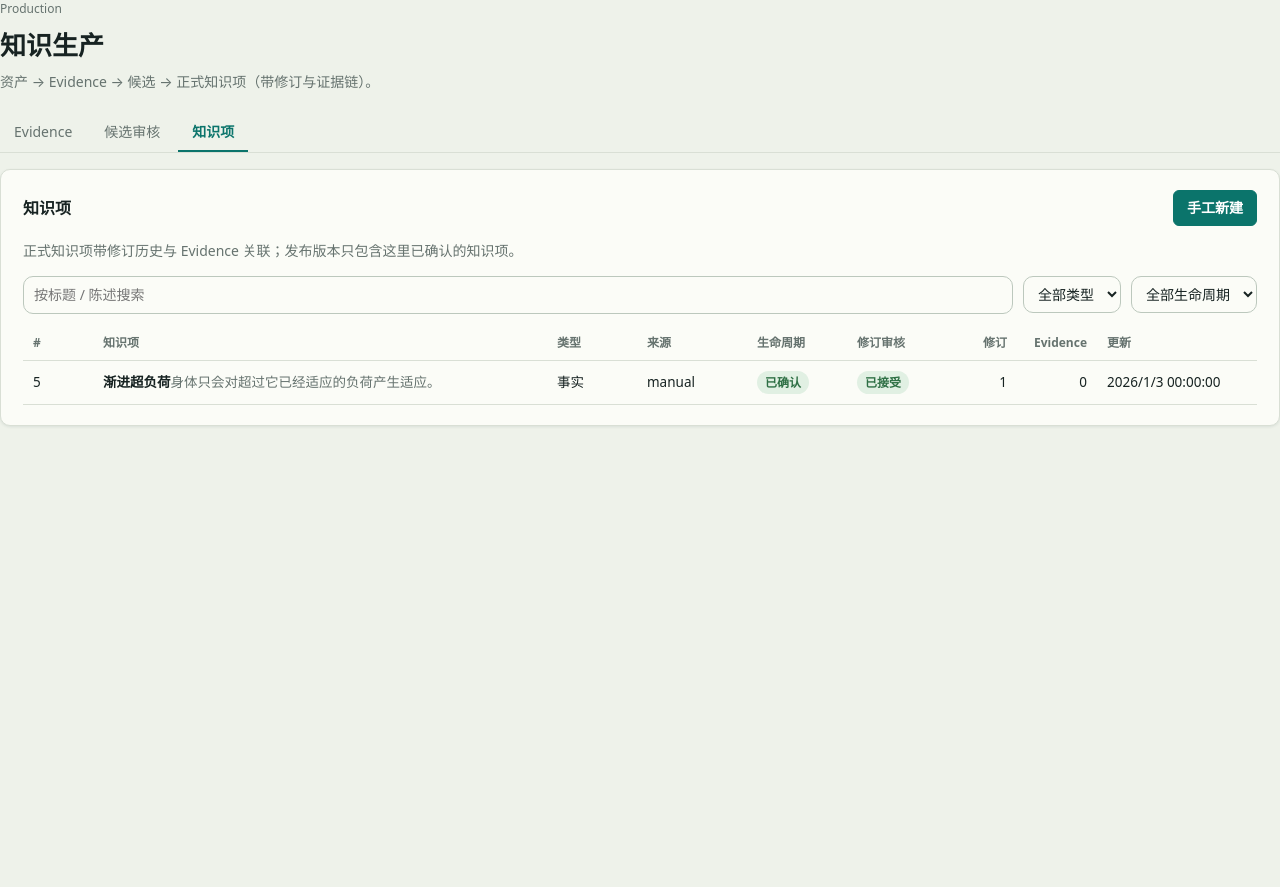
Scenario: 上链到知行图 › 钱包里没有知行图账户:给出导入指引
Click the text "渐进超负荷".
click(137, 382)  # box 103,373 -> 170,391
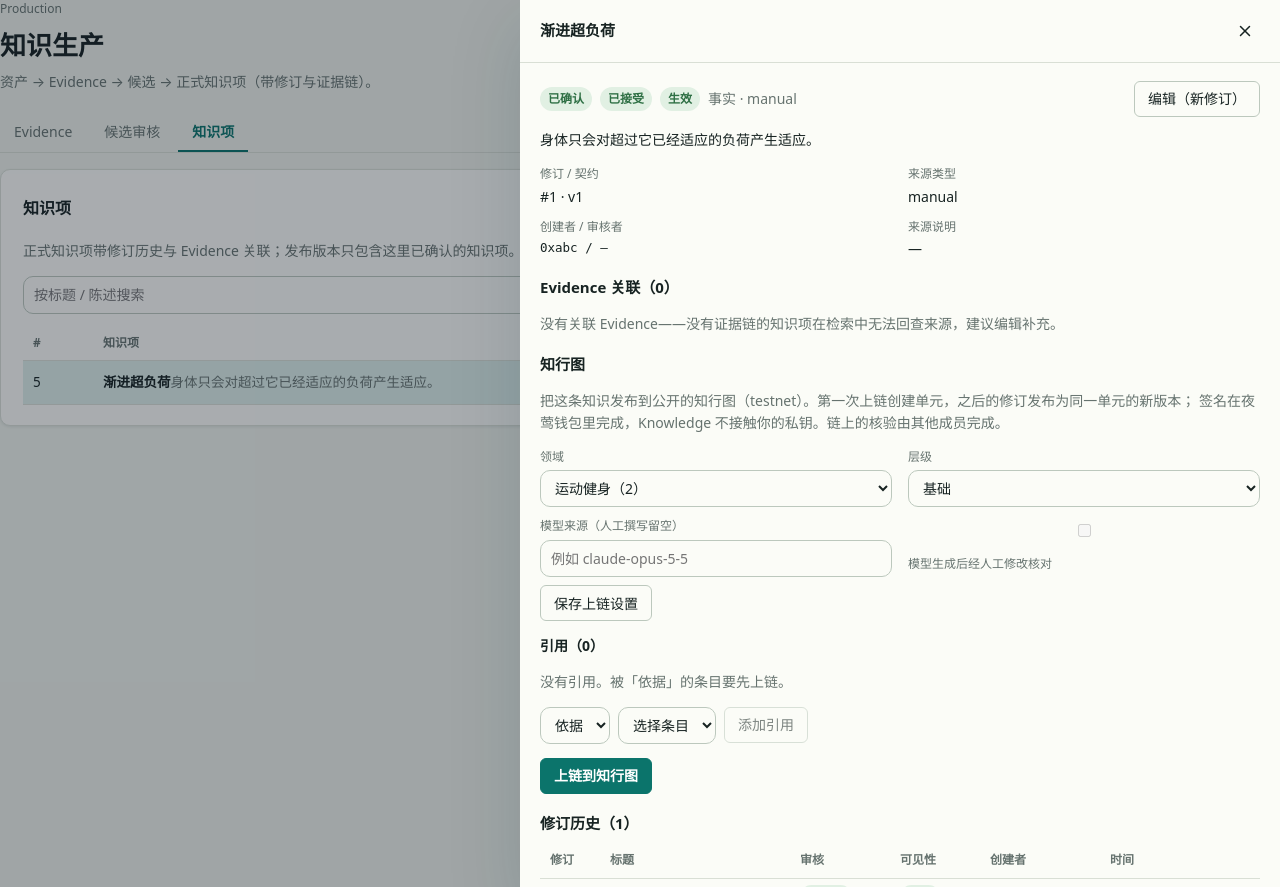
Result: the element "知行图" is shown at 540,353 -> 1260,794
Click the button "上链到知行图".
click(596, 776)  # box 540,758 -> 652,794
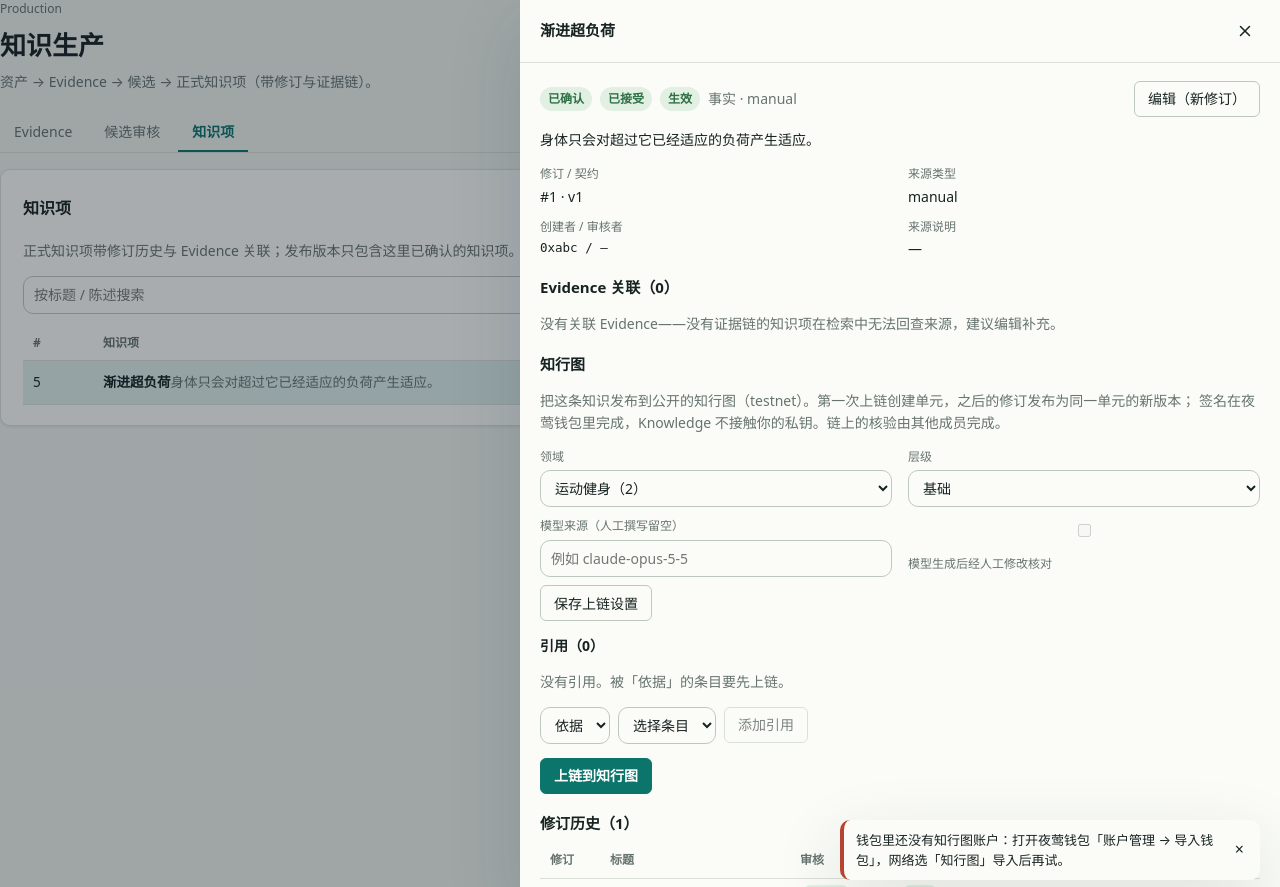
Result: the text "钱包里还没有知行图账户：打开夜莺钱包「账户管理 → 导入钱包」，网络选「知行图」导入后再试。" is shown at 856,830 -> 1219,870
